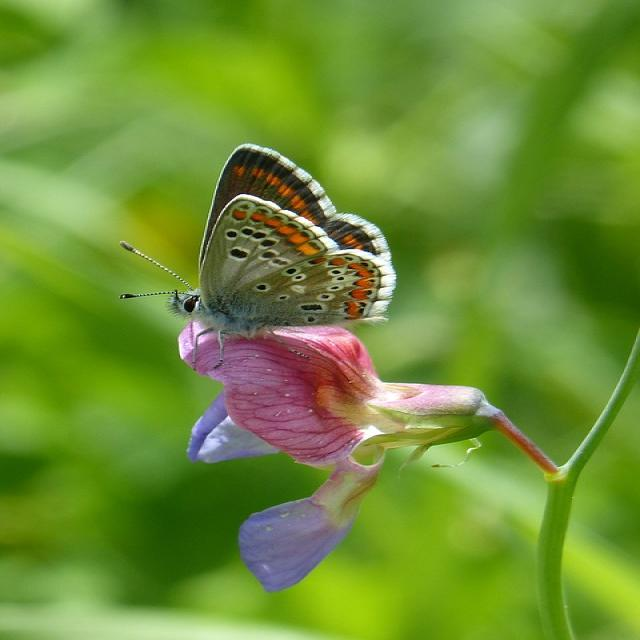butterfly: (171, 145, 397, 374)
